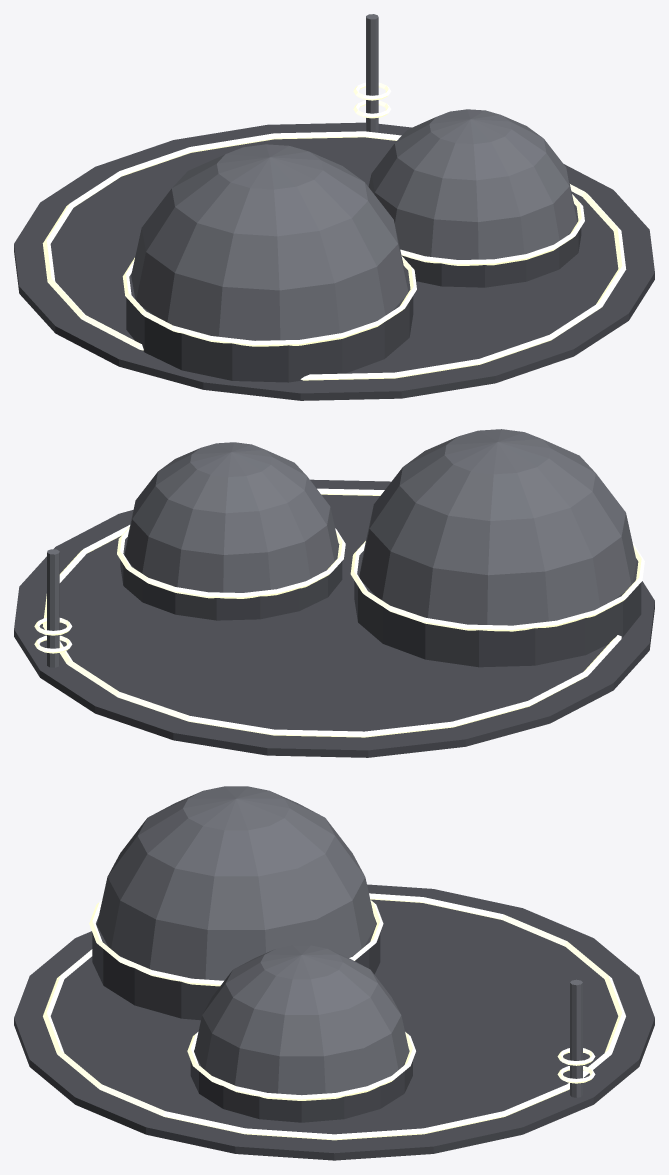
The model's file is zone_low_3_t2.glb.
3 views of the same model, one above another, from view 1: azimuth 30°, elevation 25°; view 2: azimuth 150°, elevation 25°; view 3: azimuth 270°, elevation 25° (orthographic).
Visible parts, largest first — view 1: zone_low_3_t2, detail; view 2: zone_low_3_t2, detail; view 3: zone_low_3_t2, detail.
Boxes of the visible parts, left/top/right/bottom form: zone_low_3_t2: left=14, top=109, right=654, bottom=400; detail: left=42, top=14, right=626, bottom=380; zone_low_3_t2: left=14, top=429, right=654, bottom=757; detail: left=34, top=488, right=621, bottom=737; zone_low_3_t2: left=14, top=786, right=654, bottom=1160; detail: left=43, top=893, right=625, bottom=1140.
Size of the model in its own units: 19.6 by 5.77 by 19.6.
